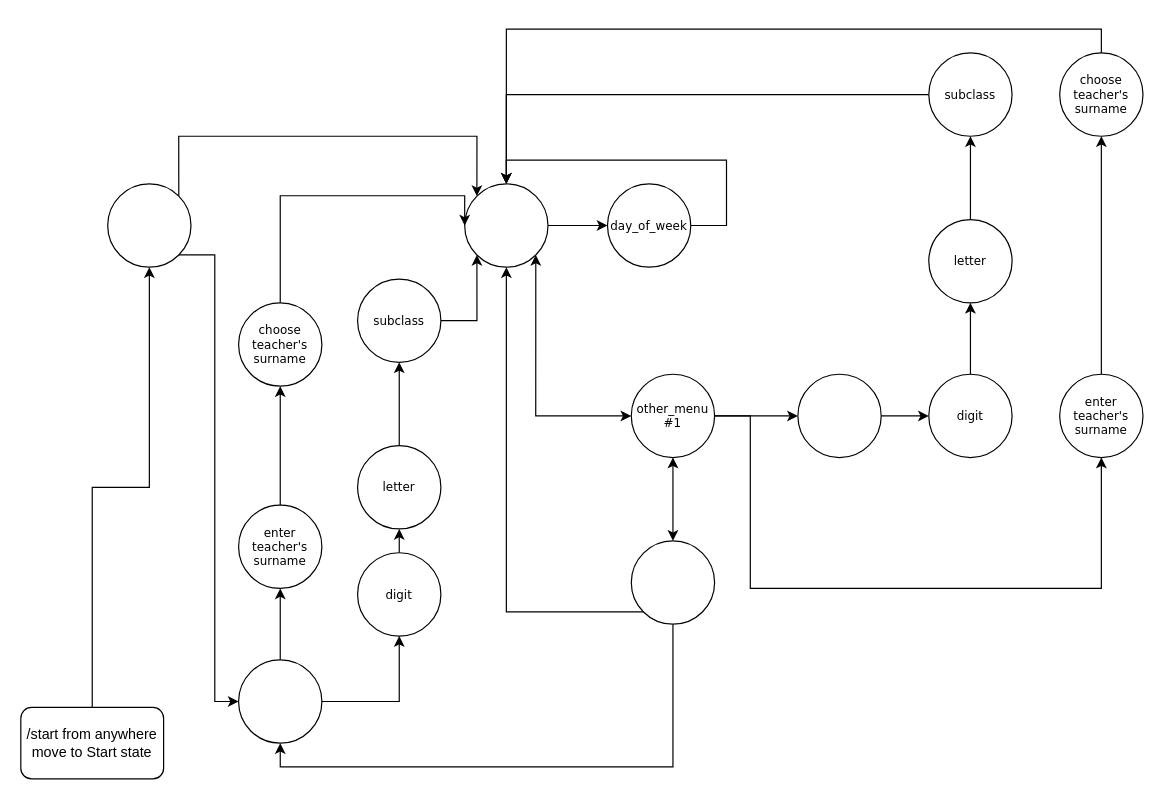
Some shapes in this 1164 by 800 pixel diagram are drawn without their labels. The box of each missing label's shape, as (x1, y1, x2, y2) in pixels:
find class: (797, 373, 881, 458)
Main menu: (464, 183, 548, 267)
other_menu #2: (630, 540, 715, 624)
Registration: (237, 659, 322, 743)
Start: (107, 183, 191, 267)
